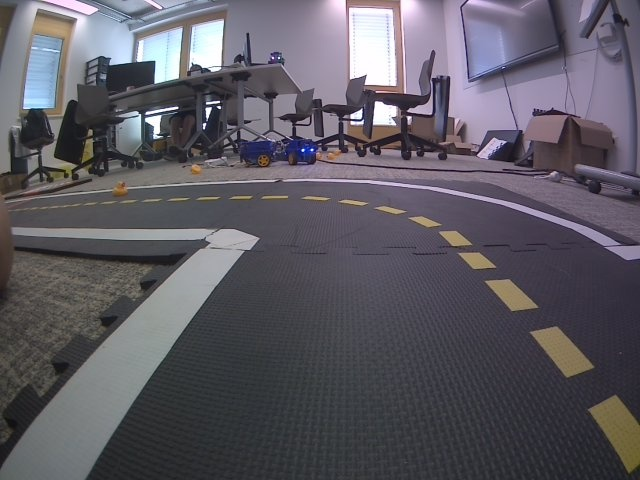Bot: (238, 140, 276, 168), (286, 140, 319, 164), (268, 50, 285, 66)
